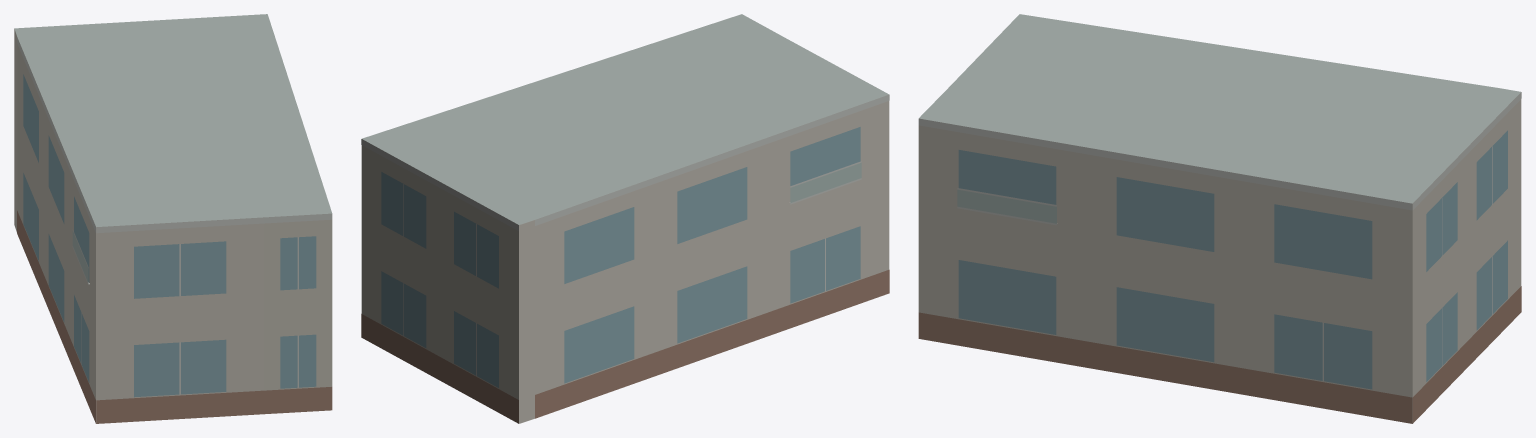
The model's file is survey-upis-32639583.glb.
3 views of the same model, side by side, from view 1: azimuth 30°, elevation 25°; view 2: azimuth 150°, elevation 25°; view 3: azimuth 270°, elevation 25° (orthographic). The views are drawn at different scales.
Visible parts, largest first — view 1: survey-upis-32639583.tmp; view 2: survey-upis-32639583.tmp; view 3: survey-upis-32639583.tmp.
Boxes of the visible parts, x1,y1,x2,y2 form: survey-upis-32639583.tmp: (14, 14, 332, 423); survey-upis-32639583.tmp: (361, 14, 889, 423); survey-upis-32639583.tmp: (918, 14, 1521, 423).
Bounding box in the file's own units: 14.41 × 7.8 × 19.36.
